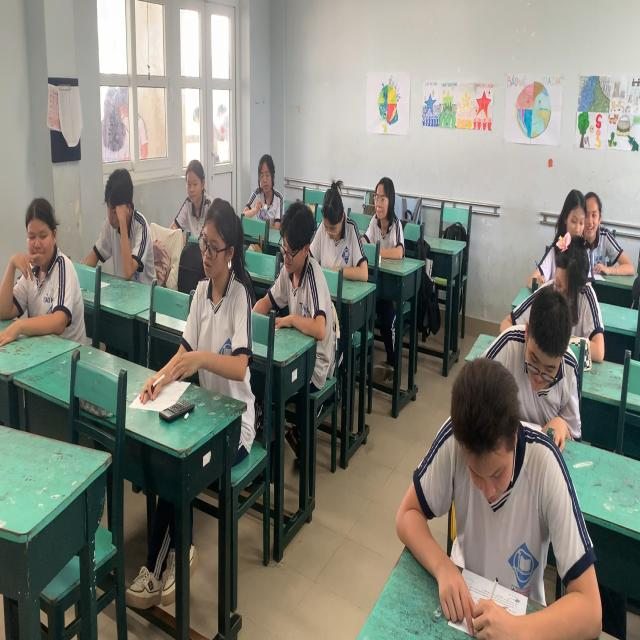cheating: (4, 188, 70, 336)
not_cheating: (403, 362, 558, 620), (193, 201, 259, 399), (508, 292, 576, 444), (95, 168, 154, 291), (267, 195, 317, 336), (313, 168, 364, 281), (237, 136, 288, 222), (362, 171, 406, 268), (180, 146, 212, 219), (549, 250, 579, 316), (558, 175, 586, 240), (582, 189, 603, 236)
